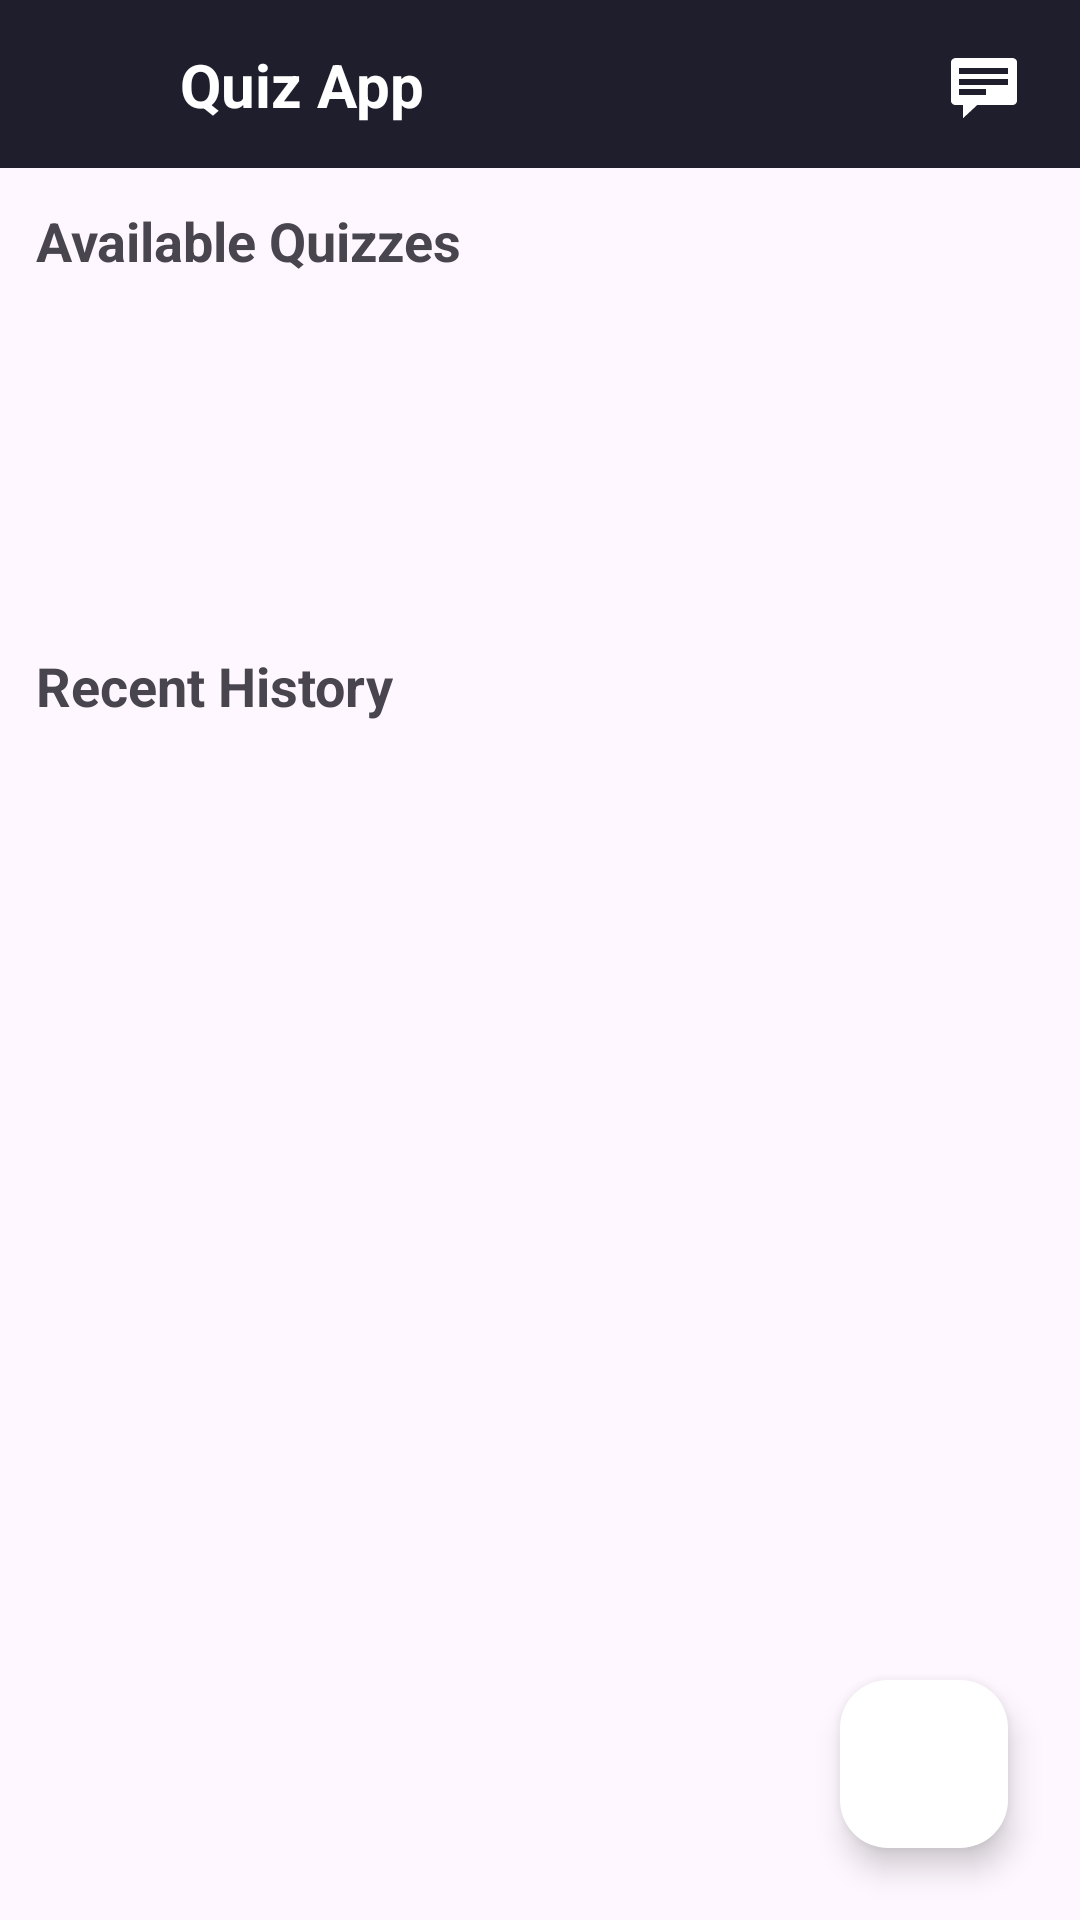

Icons on this 1080 x 1920 Android screen, each with the point to tap as (x,y):
chat: (984,88)
